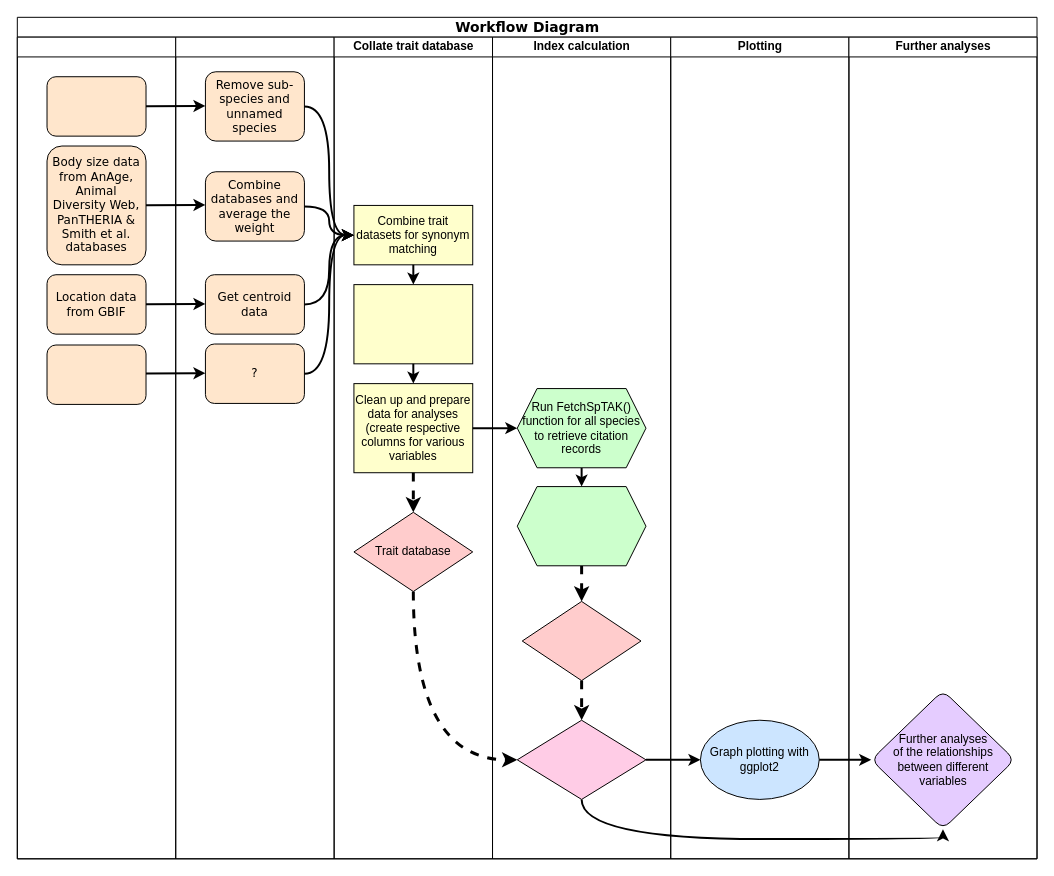
Some shapes in this 1054 by 876 pixel diagram are drawn without their labels. Here are the shapes that lost their labels. From the top down, the box of each, then its label:
(46, 76, 146, 136): Phylogeny data from rotl package in R
(353, 284, 473, 364): Remove species with incomplete data / estimate the values of missing data
(46, 344, 146, 404): Classifying human use?
(16, 36, 176, 859): Trait data collection
(175, 36, 334, 859): Tidying trait data
(516, 486, 646, 566): Run Allindices() function to calculate indices
(521, 600, 641, 681): Index database
(516, 719, 646, 799): Combined database
